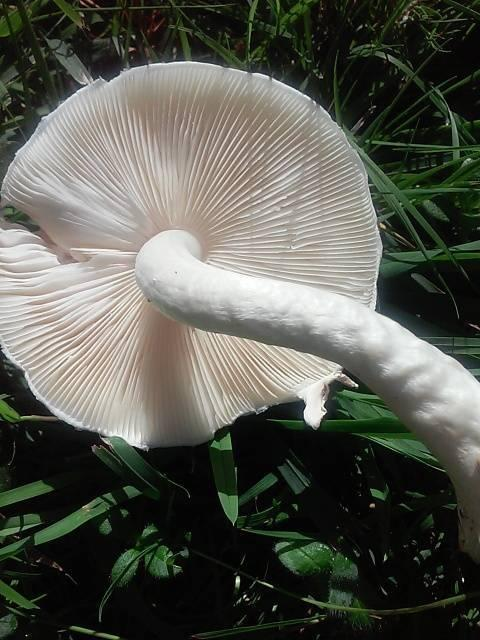poisonous_mushroom: (0, 59, 384, 450)
